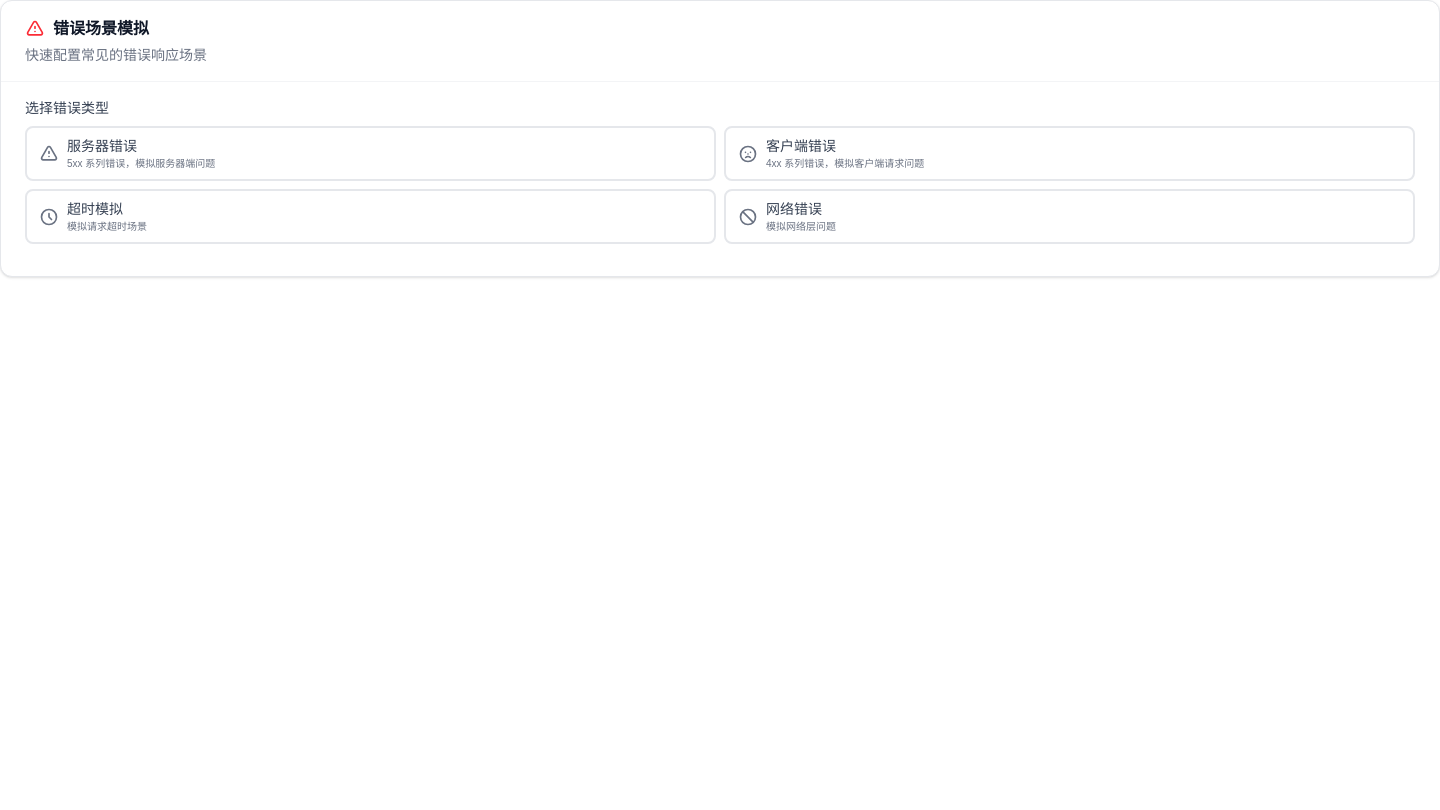
ErrorScenariosSelector › should show scenarios when category is selected
The image size is (1440, 810).
Click the button "服务器错误 5xx 系列错误，模拟服务器端问题" at (102, 146), box [25,126,716,181]
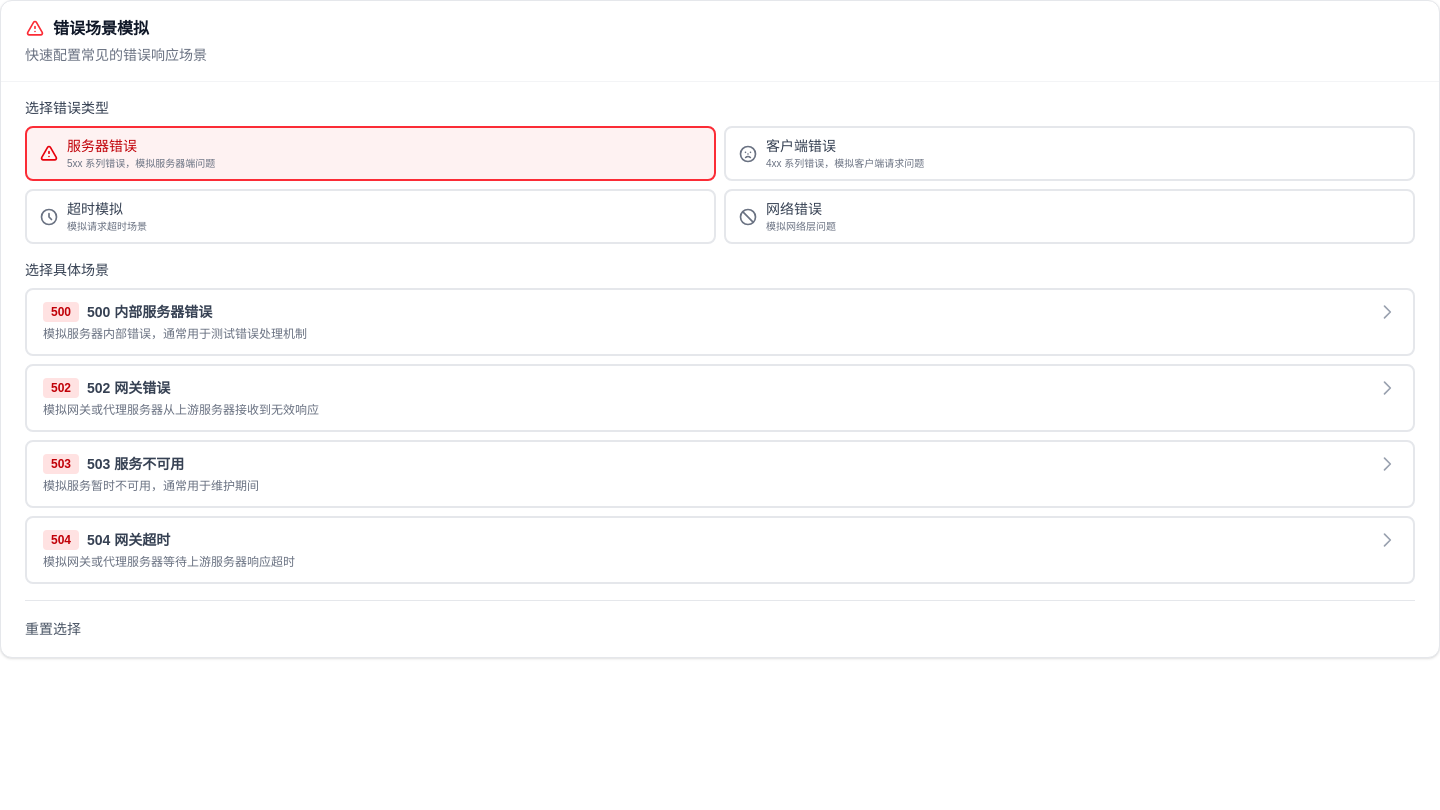
Check: the text "500 内部服务器错误" is shown, box [87,302,212,322]
